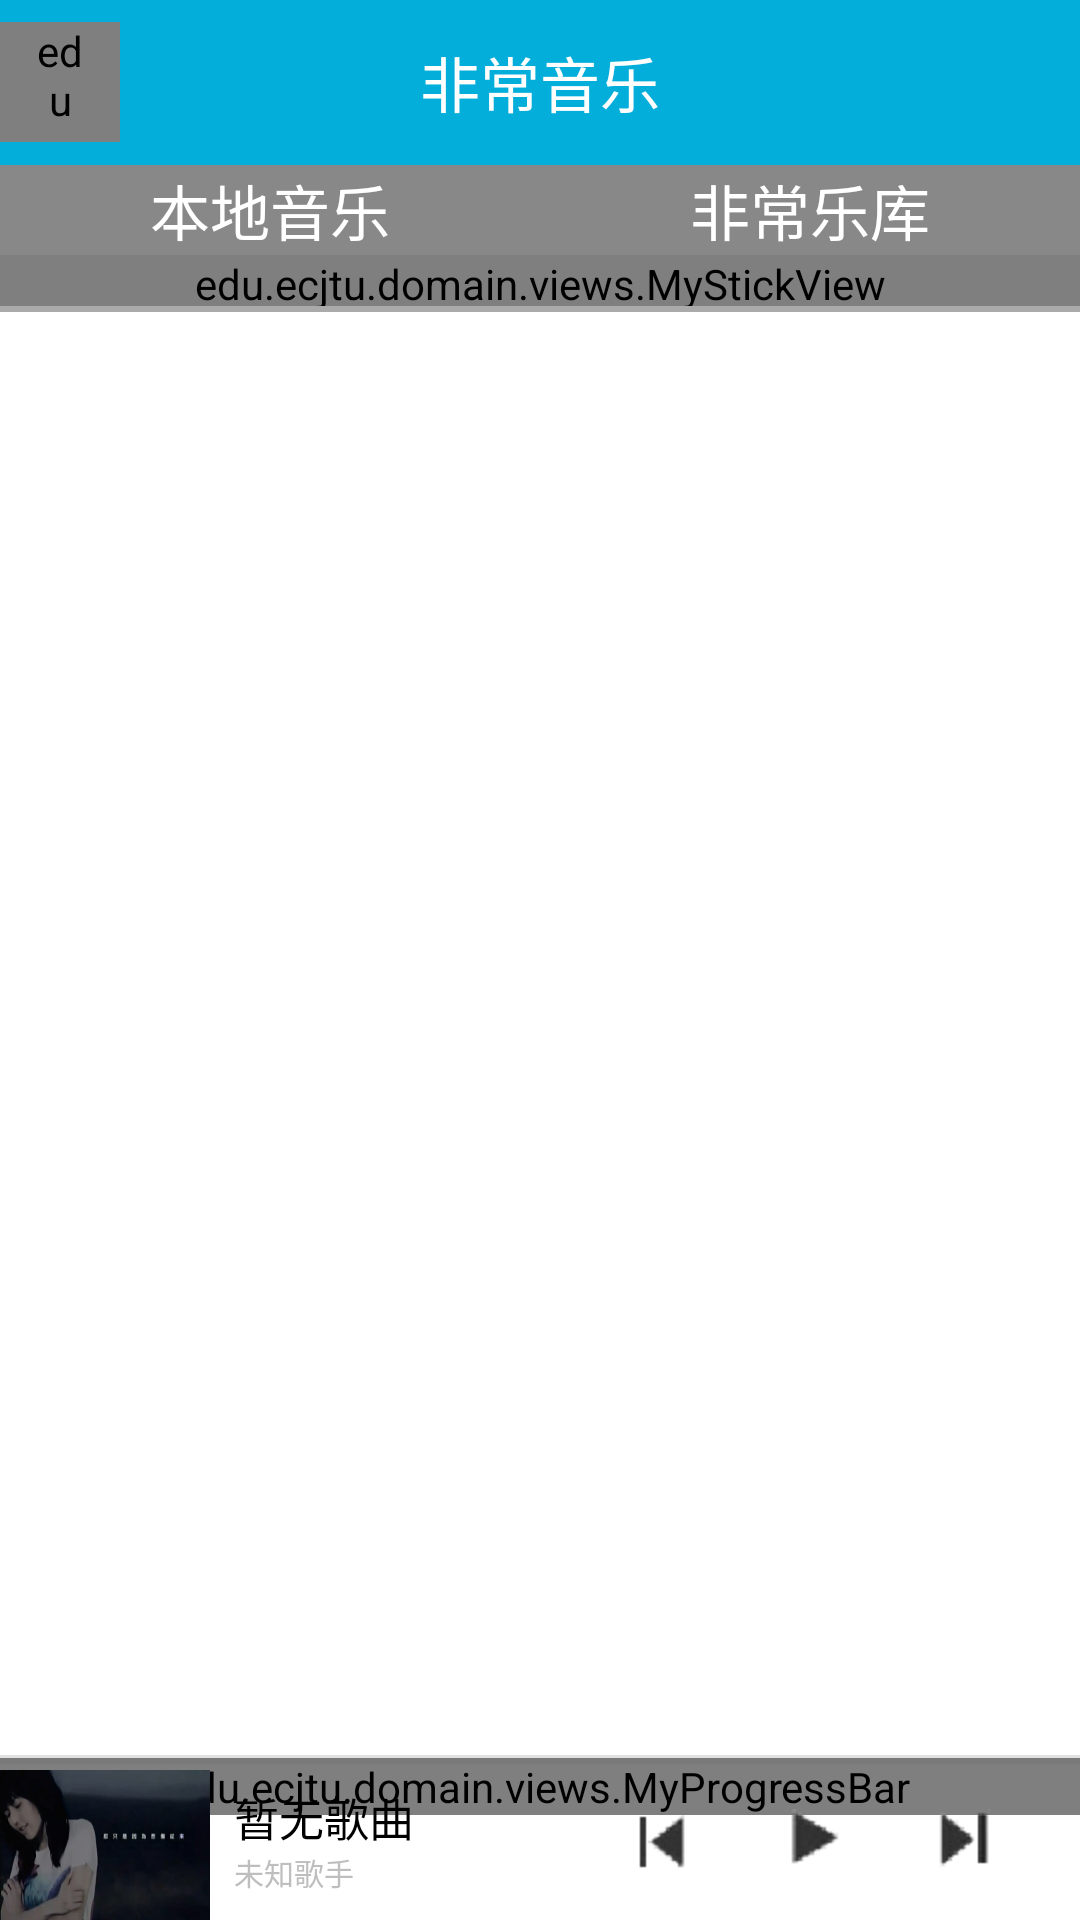

Locate icon controls on the screen. Image size 1080px x 1920px, boxes as (x1, y1, x2, y2).
testsong: (0, 1770, 210, 1920)
